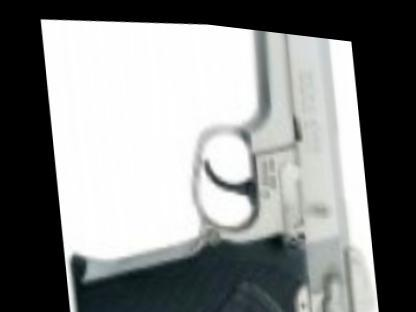pistol: (47, 4, 378, 311)
